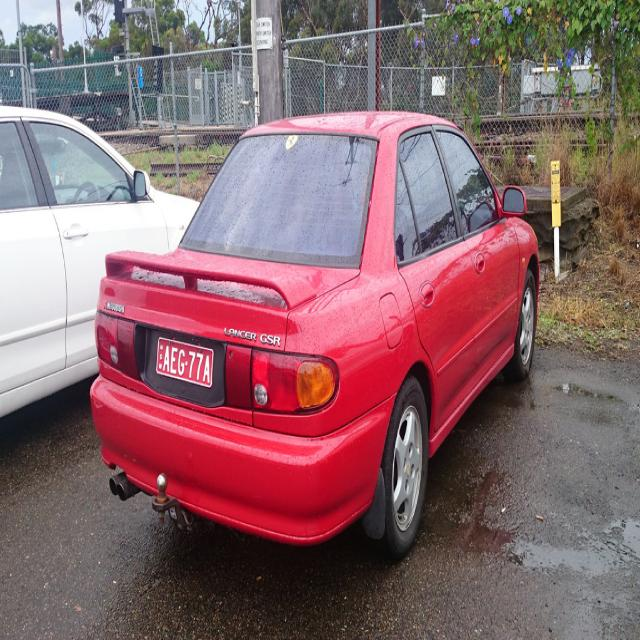car: (90, 114, 541, 563)
